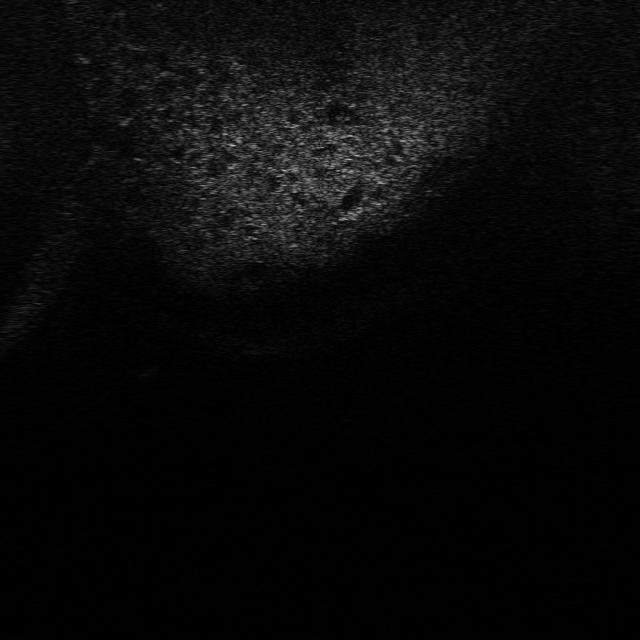cube: (114, 355, 168, 386)
